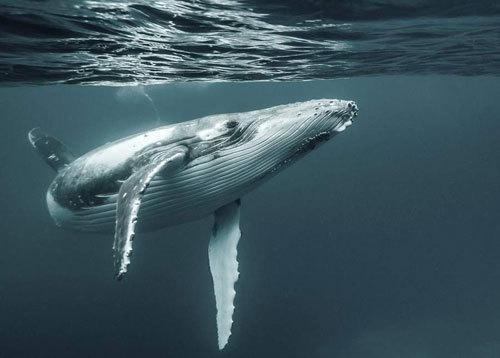fish: (27, 89, 358, 353)
